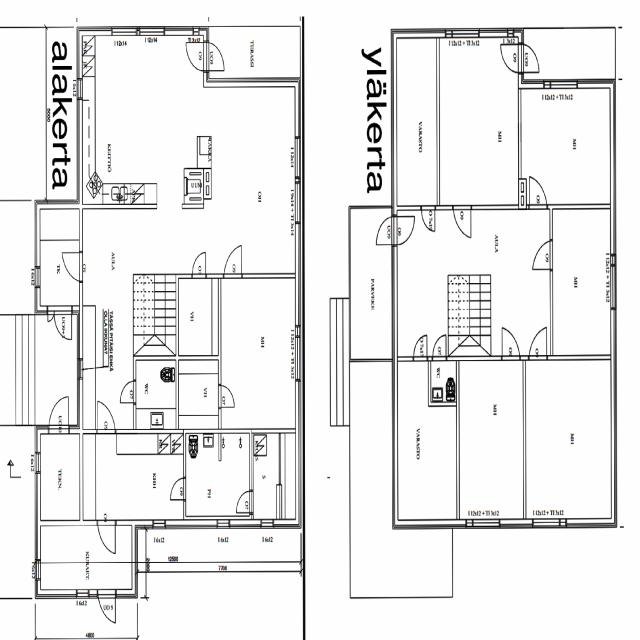door: (48, 393, 68, 434), (54, 305, 72, 344), (203, 42, 227, 71), (500, 44, 524, 73), (518, 44, 542, 73), (98, 590, 116, 628), (186, 42, 209, 71), (532, 240, 553, 270), (374, 217, 397, 244), (391, 217, 414, 244), (529, 327, 547, 361), (529, 177, 547, 210), (98, 520, 115, 554), (502, 327, 519, 361), (453, 206, 471, 238), (224, 245, 241, 278), (62, 253, 82, 281), (98, 402, 115, 434), (236, 491, 253, 513), (120, 381, 136, 403), (170, 478, 186, 500), (192, 252, 205, 278), (433, 335, 446, 361), (414, 334, 427, 360), (218, 386, 234, 407), (422, 206, 434, 232), (48, 306, 54, 324)
